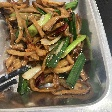chashugu: (1, 1, 95, 99)
